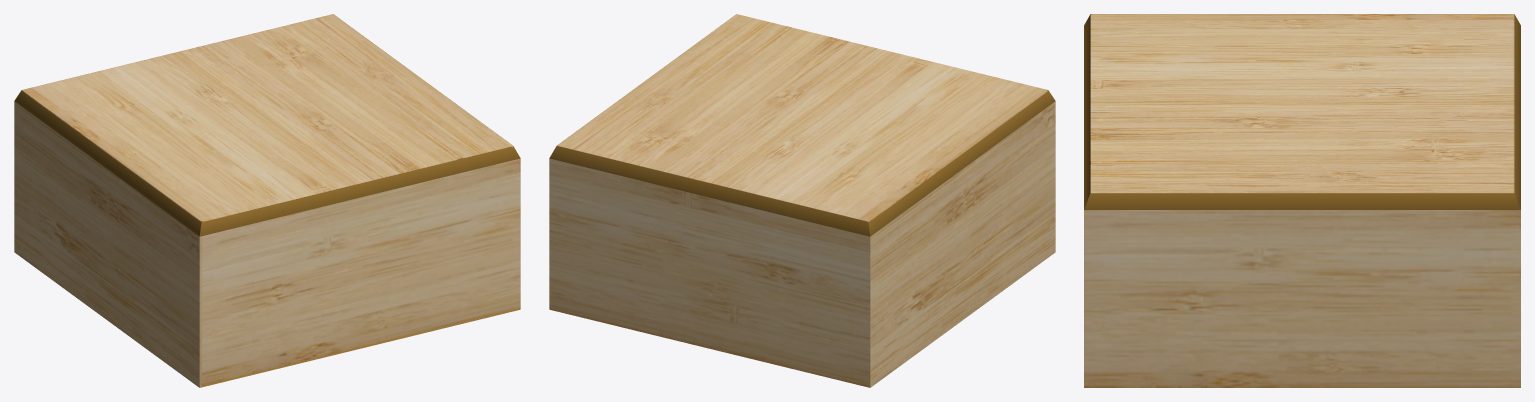
Rendered from table.fbx.
3 views of the same model, side by side, from view 1: azimuth 30°, elevation 25°; view 2: azimuth 150°, elevation 25°; view 3: azimuth 270°, elevation 25° (orthographic). The views are drawn at different scales.
Parts seen in each view (by area): view 1: pCube2; view 2: pCube2; view 3: pCube2.
Part boxes in pixels (left/top/right/bottom): pCube2: left=14, top=14, right=520, bottom=387; pCube2: left=549, top=14, right=1055, bottom=387; pCube2: left=1084, top=14, right=1520, bottom=387.
Size of the model in its own units: 8 by 3.88 by 8.
Materials: 1 (1 with a texture image).
